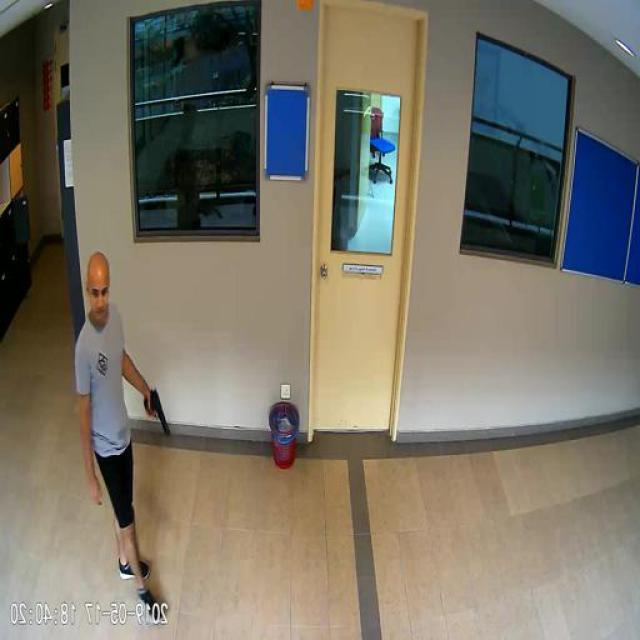Gun: (146, 387, 172, 432)
